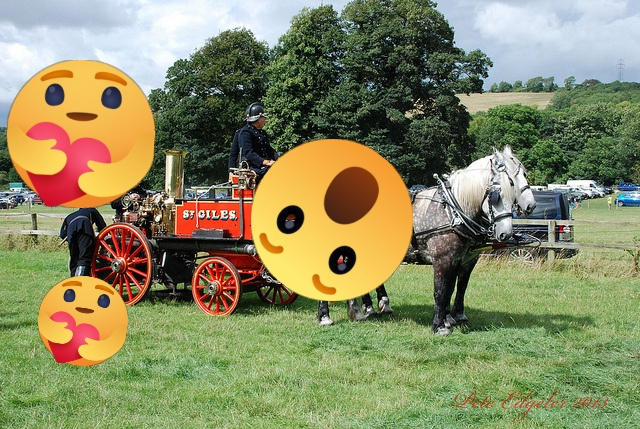care: (7, 60, 155, 208), (38, 276, 128, 366)
wow: (251, 139, 413, 301)
